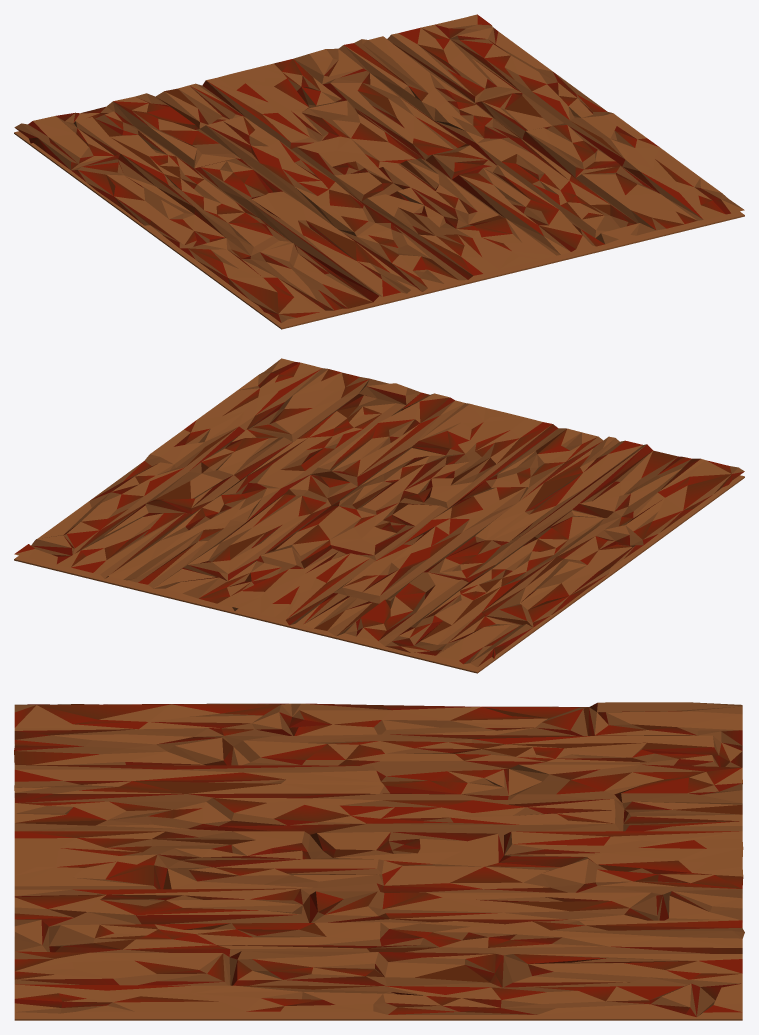
File: CornerFloor_1.fbx
The picture shows the model from 3 angles, top to bottom: view 1: azimuth 30°, elevation 25°; view 2: azimuth 150°, elevation 25°; view 3: azimuth 270°, elevation 25°; orthographic projection. The views are drawn at different scales.
Visible parts, largest first — view 1: Plane, Plane.003, Cube; view 2: Plane, Plane.003, Cube; view 3: Plane, Plane.003, Cube.
Boxes of the visible parts, x1,y1,x2,y2 form: Plane: [33, 14, 744, 317]; Plane.003: [14, 24, 743, 322]; Cube: [14, 131, 744, 329]; Plane: [14, 358, 731, 660]; Plane.003: [31, 358, 744, 666]; Cube: [14, 475, 744, 673]; Plane: [14, 704, 743, 1014]; Plane.003: [14, 702, 744, 1017]; Cube: [14, 744, 742, 1020].
Size of the model in its own units: 7.22 by 0.15 by 7.23.
